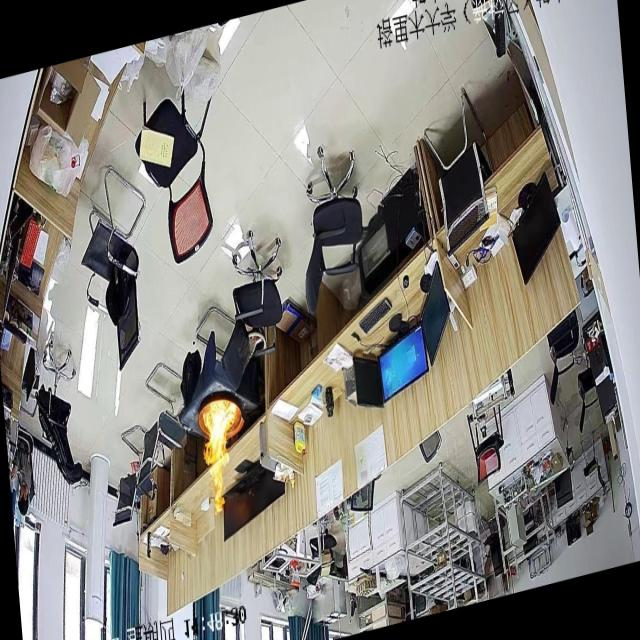fire: (188, 380, 254, 524)
